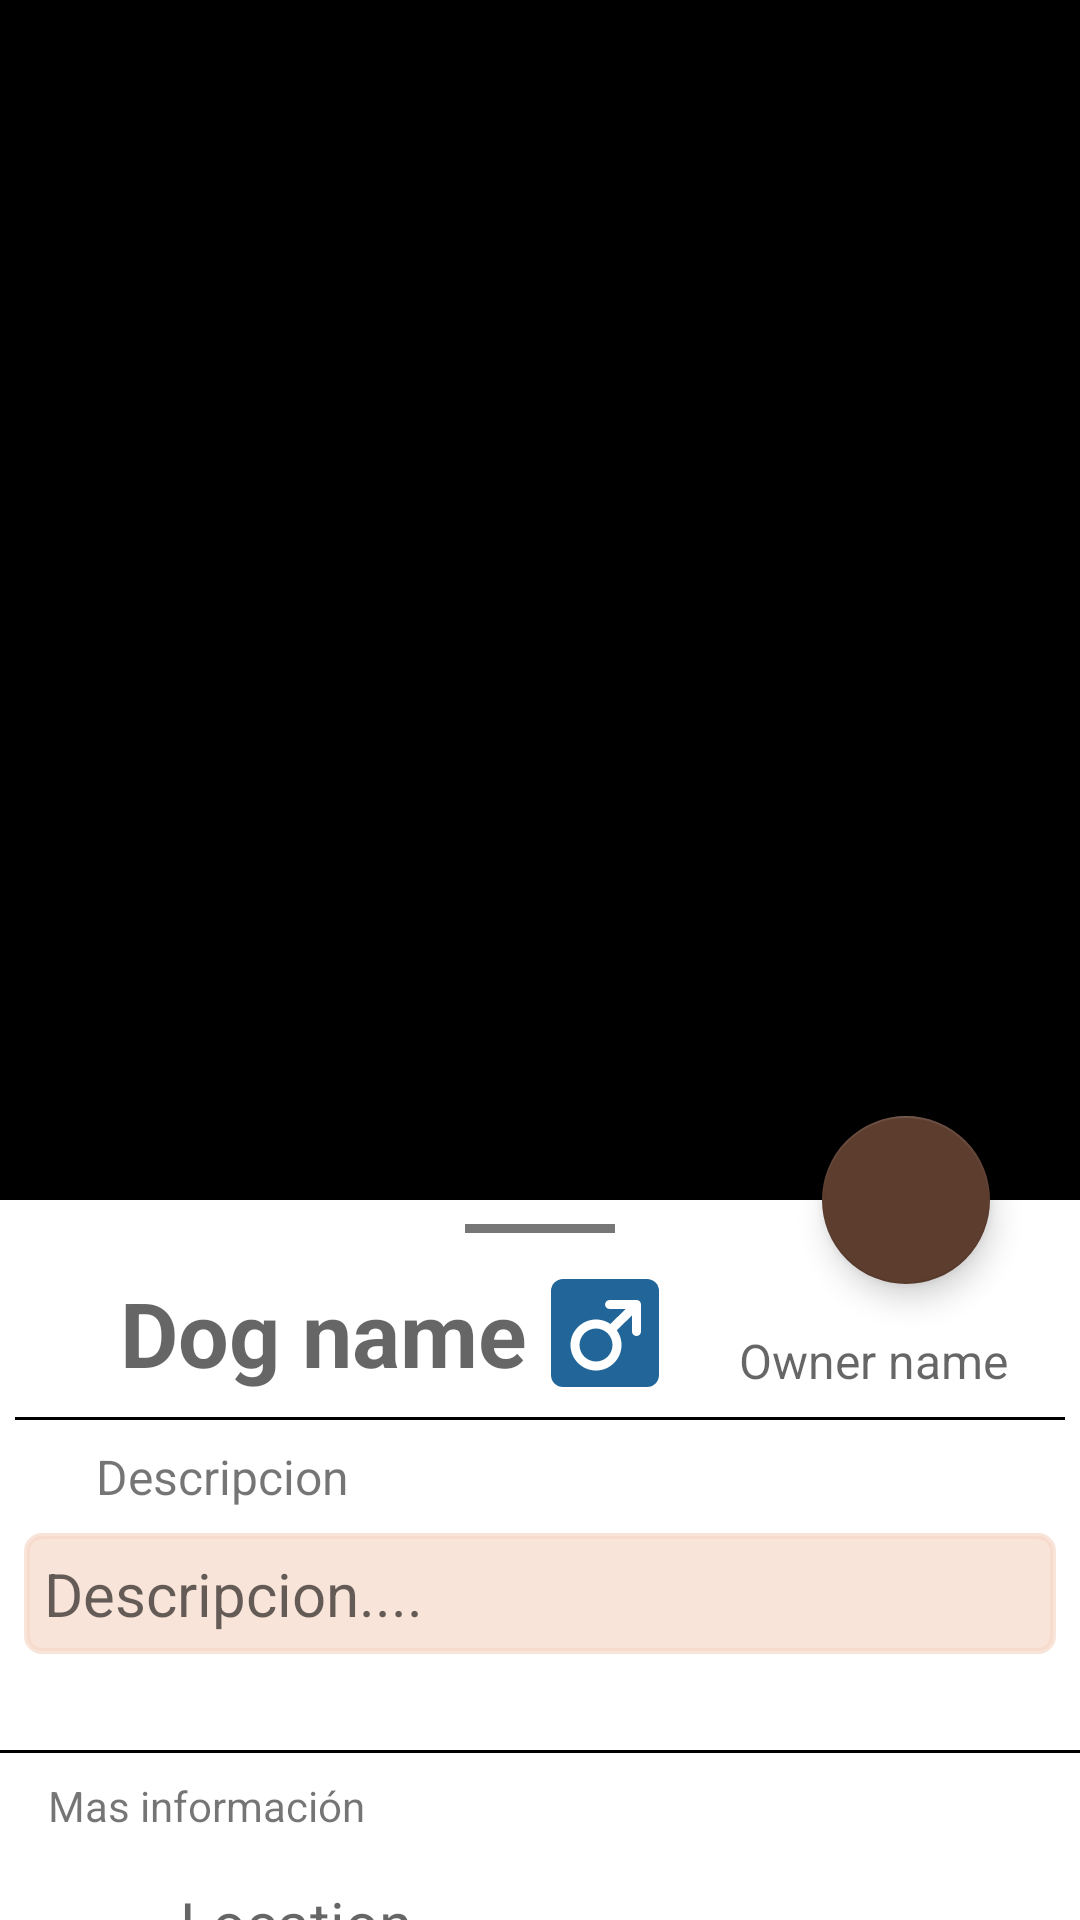

Point at icon controls on the screen. Image size 1080×1920, points as [x,y].
male: [605,1333]
